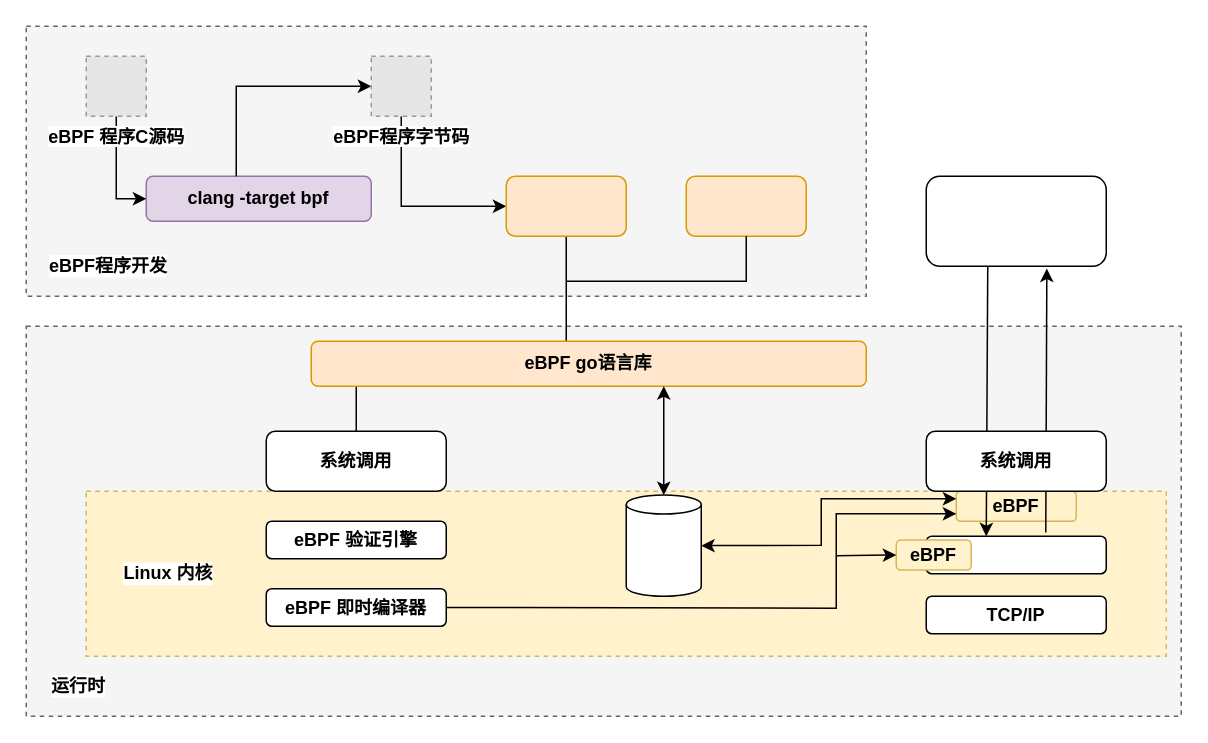
Some shapes in this 1208 by 743 pixel diagram are drawn without their labels. Grey dashed boxes stand in for pictures. Each missing label, with the box of its shape:
eBPF 映射: (625, 494, 701, 596)
套接字: (925, 535, 1106, 574)
程序: (505, 175, 626, 236)
程序映射: (685, 175, 806, 236)
进程: (925, 175, 1106, 266)
